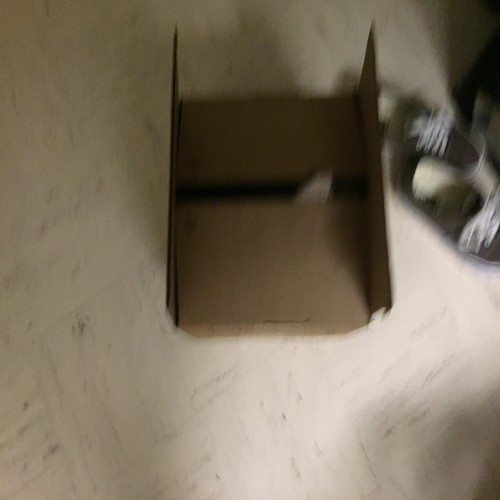box: (153, 28, 398, 343)
